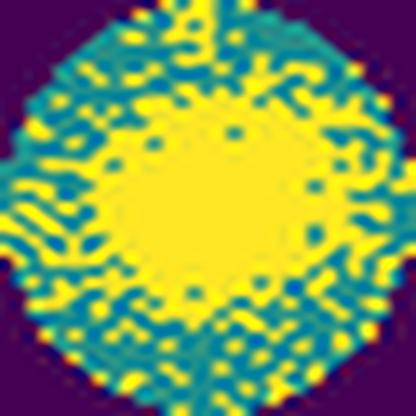Center: (55, 79, 396, 330)
